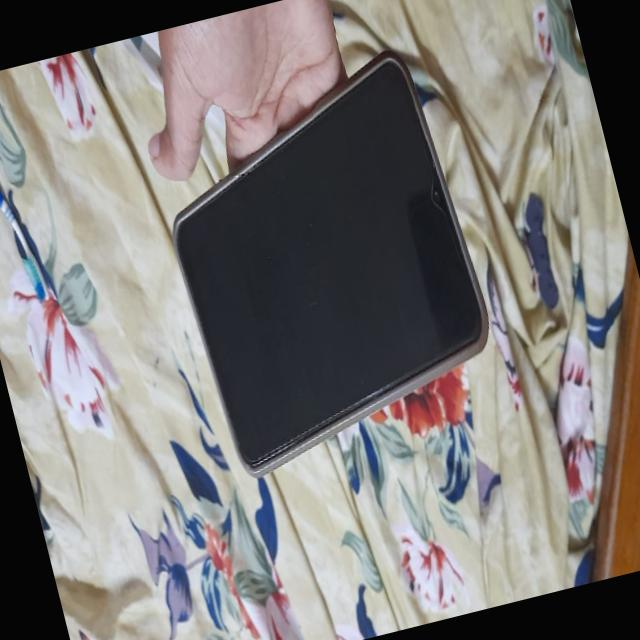Mobile - Recyclable: (132, 28, 514, 496)
